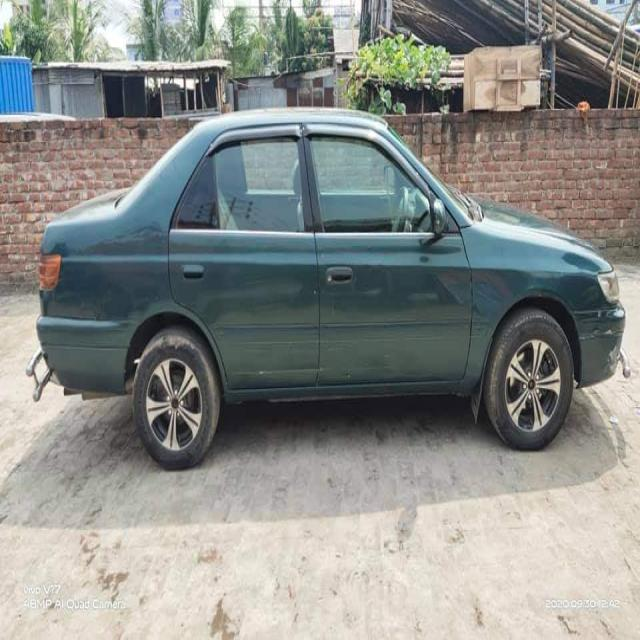green: (32, 98, 640, 429)
